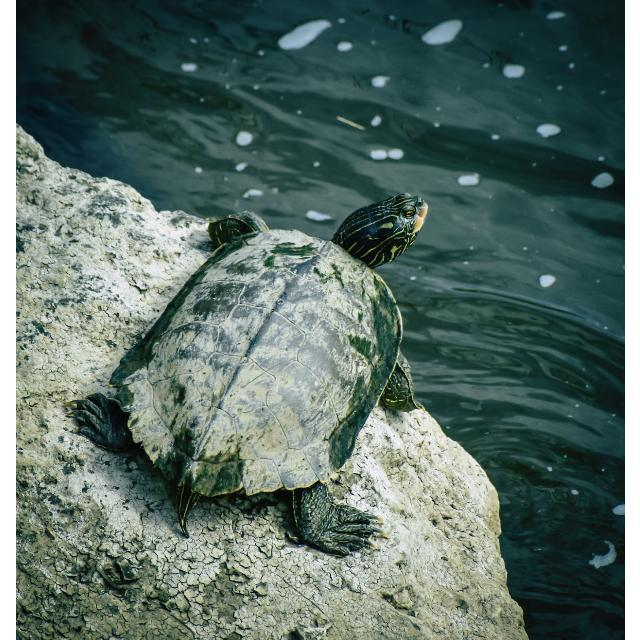turtle: (64, 191, 430, 558)
